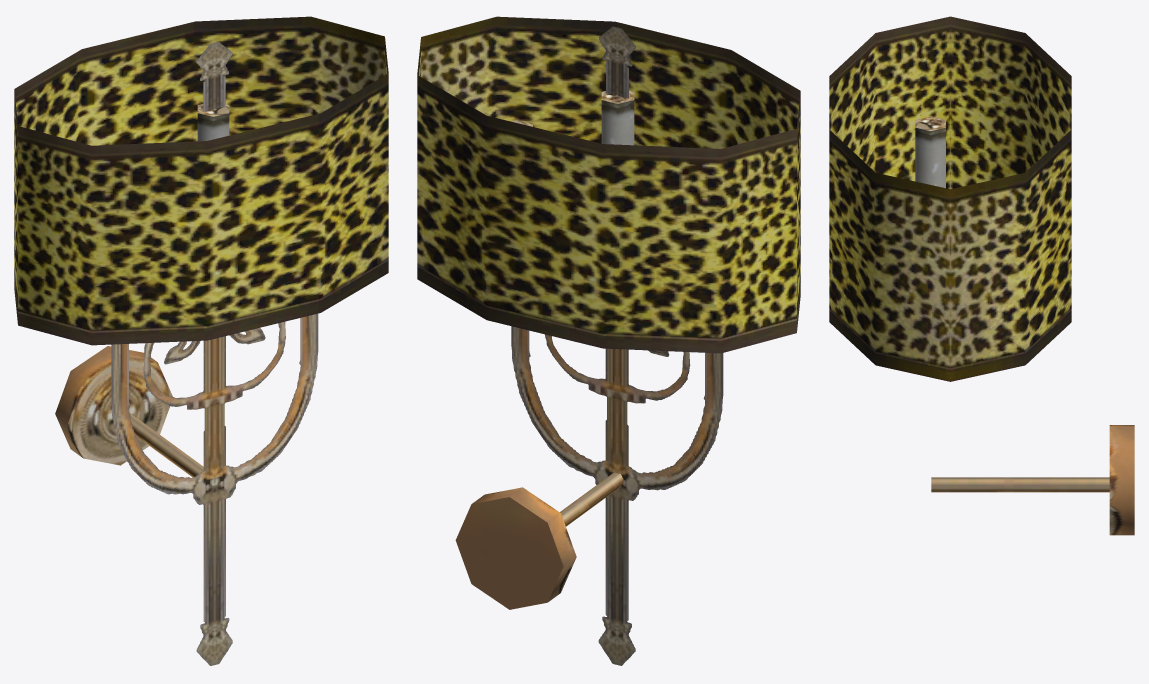
The model's file is furni_0200149_01.FBX.
3 renders of one model, left to right at view 1: azimuth 30°, elevation 25°; view 2: azimuth 150°, elevation 25°; view 3: azimuth 270°, elevation 25°, orthographic. The views are drawn at different scales.
Parts seen in each view (by area): view 1: furni_0200149_01; view 2: furni_0200149_01; view 3: furni_0200149_01.
Part boxes in pixels (x1=…): furni_0200149_01: x1=14, y1=16, x2=388, y2=665; furni_0200149_01: x1=417, y1=16, x2=800, y2=665; furni_0200149_01: x1=829, y1=16, x2=1134, y2=535.
Size of the model in its own units: 33.28 by 53.94 by 24.85.
Materials: 1 (1 with a texture image).
